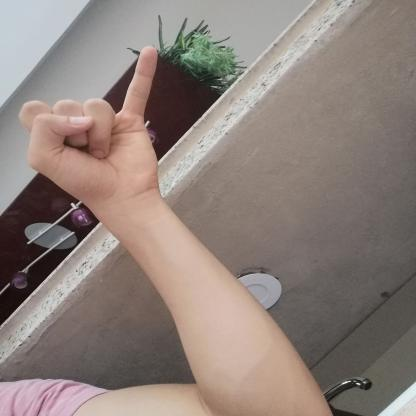MEEM: (6, 36, 178, 214)
